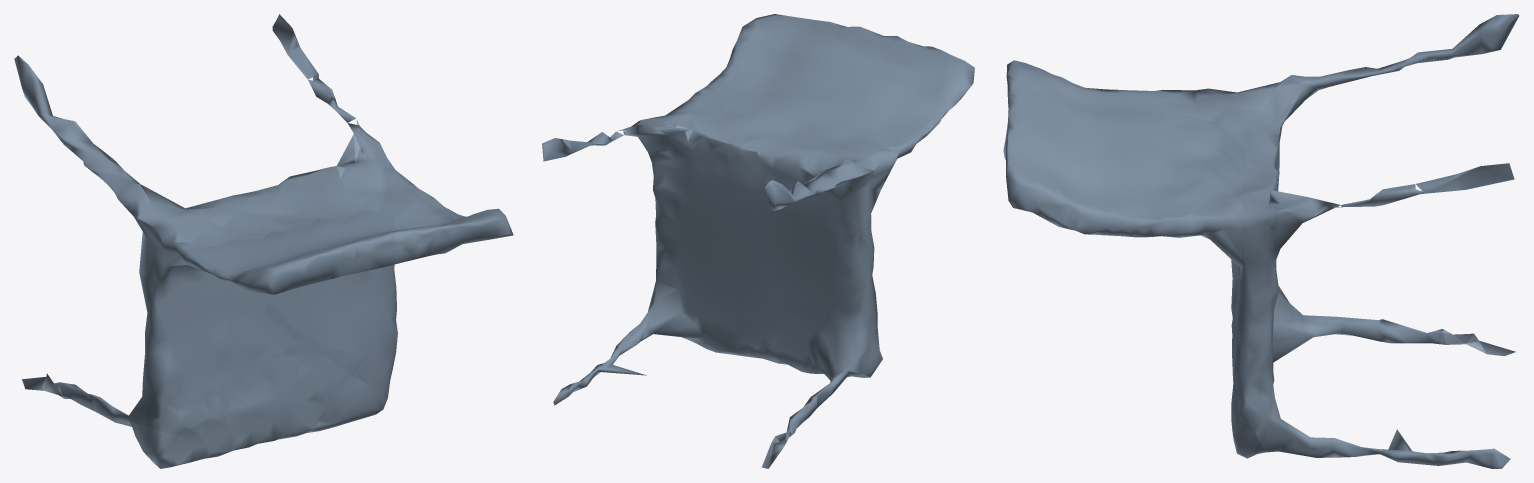
Rendered from sample_312_recon.obj.
3 renders of one model, left to right at view 1: azimuth 30°, elevation 25°; view 2: azimuth 150°, elevation 25°; view 3: azimuth 270°, elevation 25°, orthographic. The views are drawn at different scales.
Bounding box in the file's own units: 0.823 × 0.9722 × 1.33.
